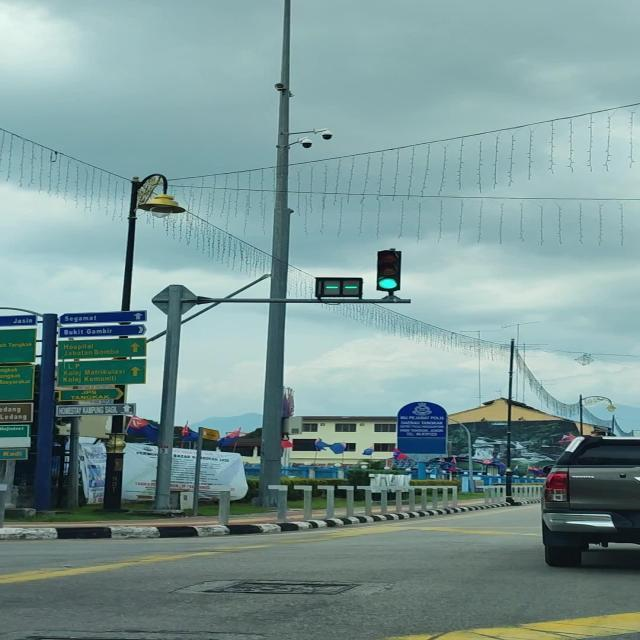green_light: (374, 250, 399, 291)
